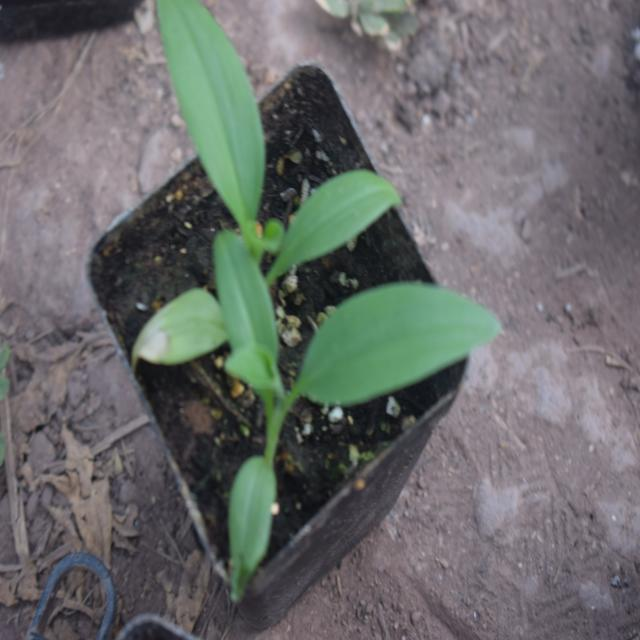Common Dayflower: (193, 98, 475, 516)
